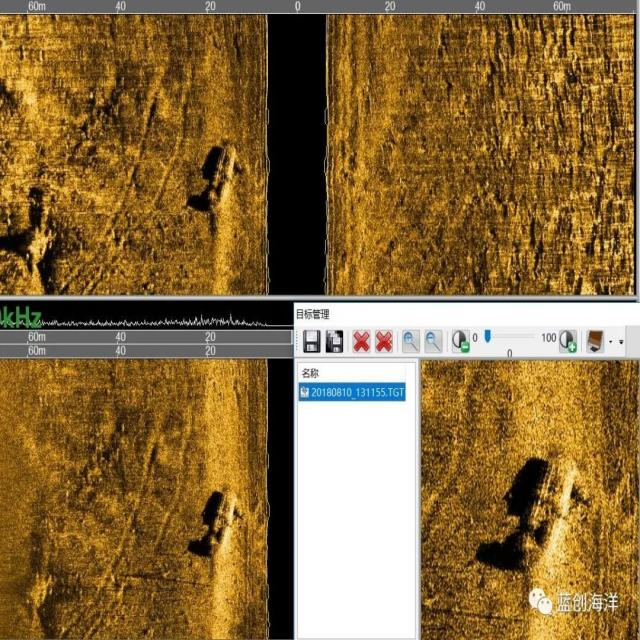ship: (522, 447, 577, 570), (205, 142, 238, 216), (209, 486, 235, 558)
